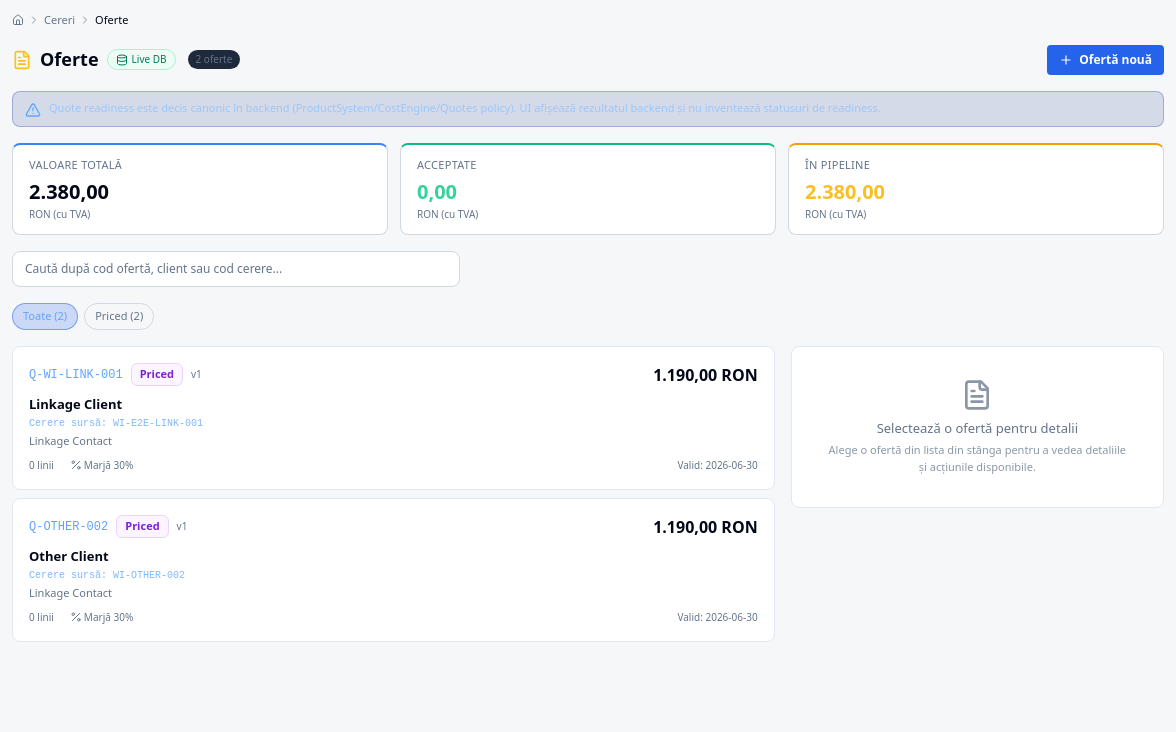
Quotes commercial navigation and traceability › filters quotes by intake code via search input
The width and height of the screenshot is (1176, 732).
Type "WI-E2E-LINK-001" into the search field with test id "quotes-search-input".
click(236, 269); type("WI-E2E-LINK-001")  # box 12,251 -> 460,287
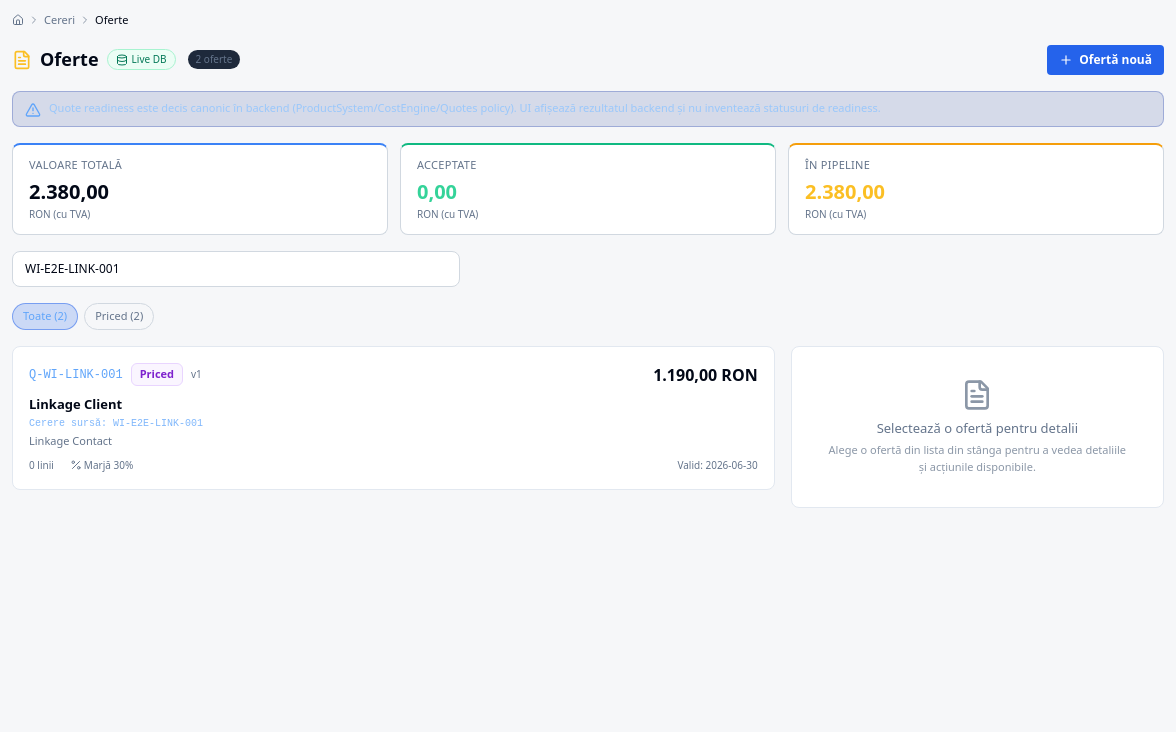
Expected: the text "Q-WI-LINK-001" is shown, 29,366 -> 123,384
Expected: the text "Q-OTHER-002" is gone
